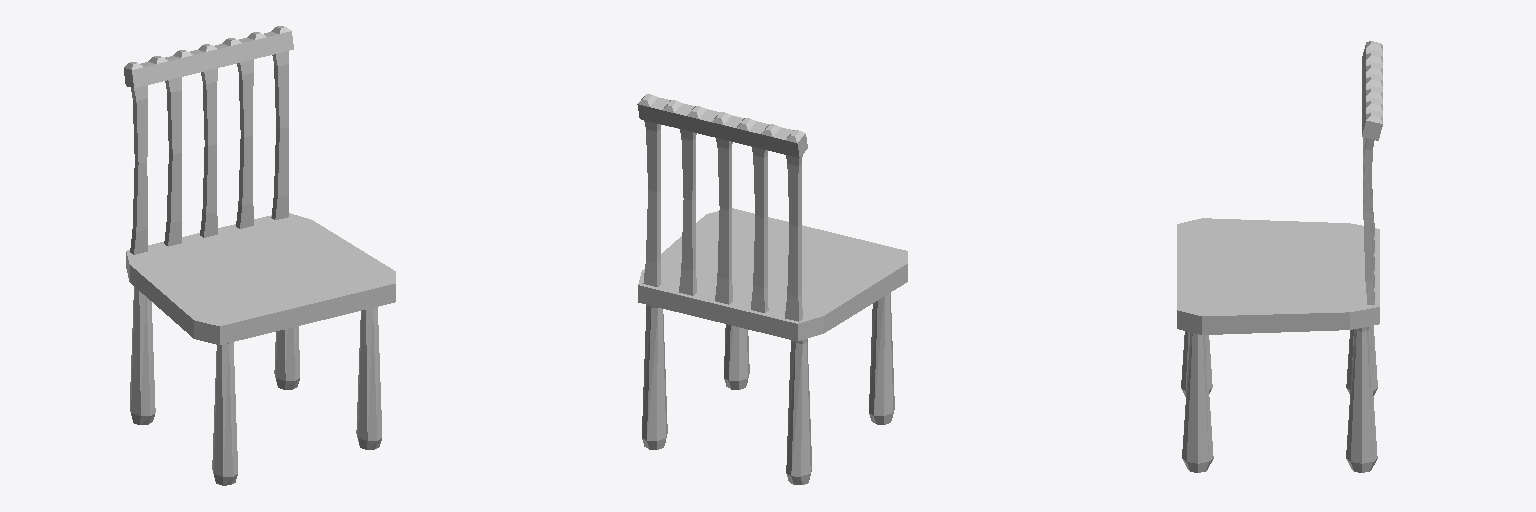
File: chair remodel.obj
3 renders of one model, left to right at view 1: azimuth 30°, elevation 25°; view 2: azimuth 150°, elevation 25°; view 3: azimuth 270°, elevation 25°, orthographic.
Parts seen in each view (by area): view 1: Chair_seat, Chair_seat chair_top, Chair_seat leg, Chair_seat leg2, Chair_seat leg1, chair_back_1 Chair_seat, Chair_seat chair_back_2, Chair_seat chair_back_5, Chair_seat chair_back_4, Chair_seat chair_back_3, Chair_seat leg3; view 2: Chair_seat, Chair_seat chair_top, Chair_seat leg1, Chair_seat leg3, Chair_seat leg, Chair_seat chair_back_5, Chair_seat chair_back_2, chair_back_1 Chair_seat, Chair_seat chair_back_4, Chair_seat chair_back_3, Chair_seat leg2; view 3: Chair_seat, Chair_seat leg3, Chair_seat leg2, Chair_seat chair_top, Chair_seat chair_back_5, Chair_seat leg1, Chair_seat leg.
Part boxes in pixels (x1,y1,x2,y2): Chair_seat: (126,213,395,344); Chair_seat chair_top: (124,26,293,87); Chair_seat leg: (212,342,237,485); Chair_seat leg2: (356,307,381,449); Chair_seat leg1: (130,286,155,424); chair_back_1 Chair_seat: (130,85,147,254); Chair_seat chair_back_2: (164,77,181,246); Chair_seat chair_back_5: (271,51,288,219); Chair_seat chair_back_4: (236,59,253,228); Chair_seat chair_back_3: (200,68,217,237); Chair_seat leg3: (274,326,299,389); Chair_seat: (638,208,907,341); Chair_seat chair_top: (637,94,807,157); Chair_seat leg1: (786,339,811,484); Chair_seat leg3: (642,305,667,449); Chair_seat leg: (869,293,894,424); Chair_seat chair_back_5: (643,120,660,286); Chair_seat chair_back_2: (751,147,768,312); chair_back_1 Chair_seat: (785,155,802,321); Chair_seat chair_back_4: (679,129,696,295); Chair_seat chair_back_3: (715,138,732,304); Chair_seat leg2: (724,324,749,389); Chair_seat: (1177,218,1379,334); Chair_seat leg3: (1346,327,1377,472); Chair_seat leg2: (1182,332,1213,472); Chair_seat chair_top: (1362,41,1382,140); Chair_seat chair_back_5: (1363,138,1374,304); Chair_seat leg1: (1346,326,1377,395); Chair_seat leg: (1181,331,1212,396).
Bounding box in the file's own units: 5.57 × 9.37 × 4.94.